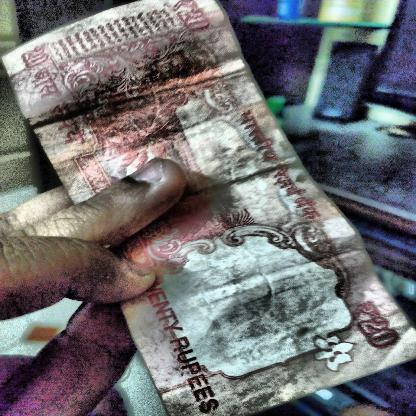Rs20: (335, 288, 416, 363), (167, 0, 220, 39), (16, 41, 58, 76)
